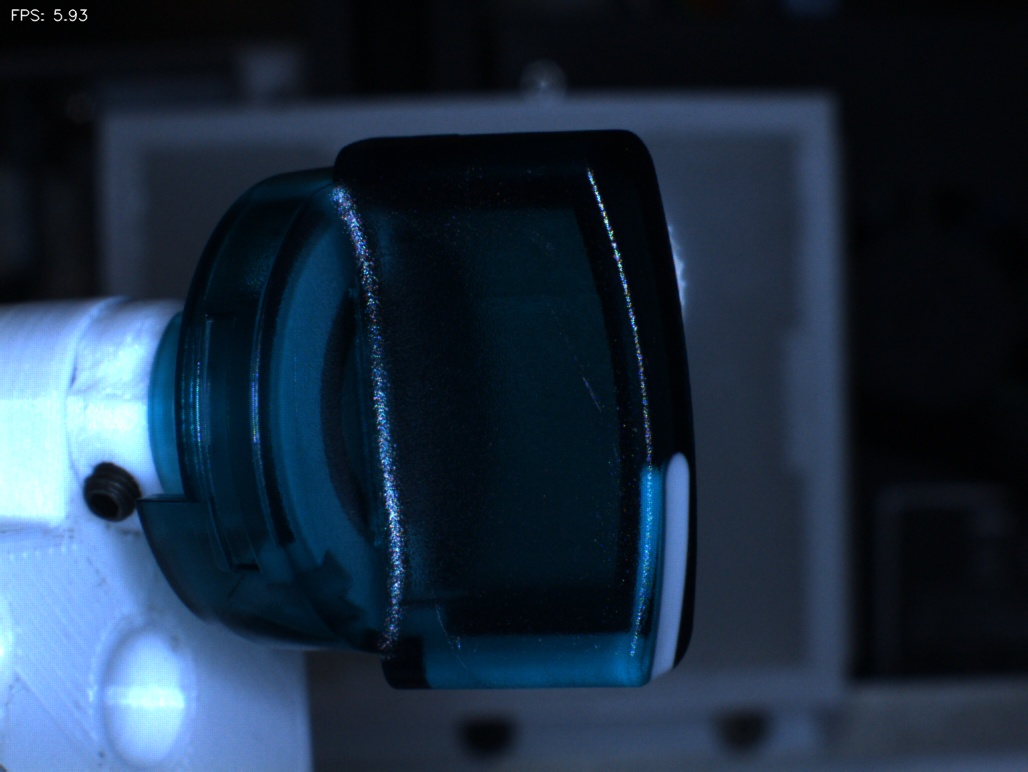Givrage: (527, 284, 621, 438), (470, 179, 578, 270)
